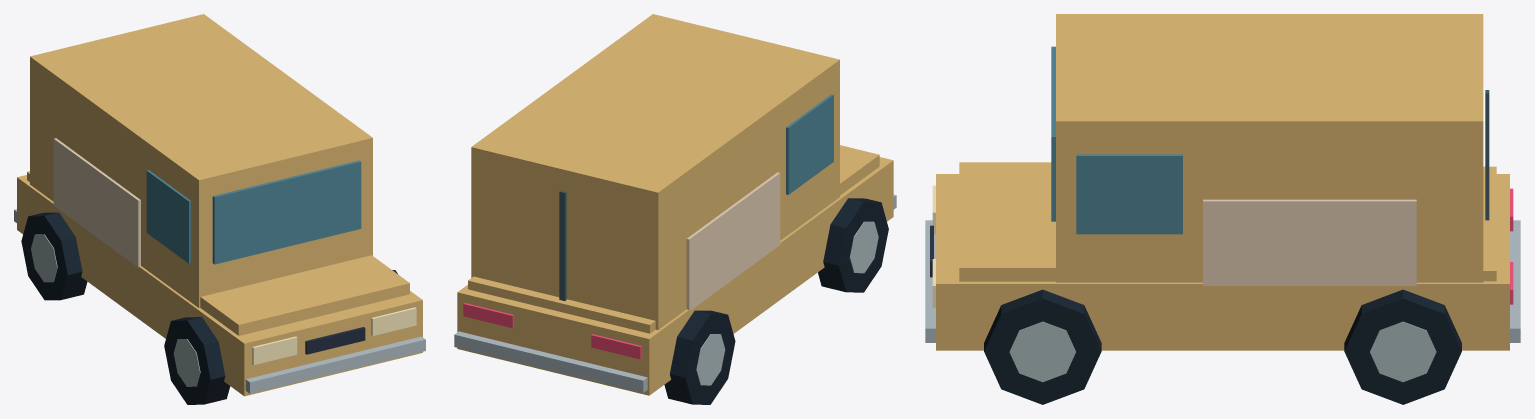
Rendered from vehicle-delivery.obj.
3 renders of one model, left to right at view 1: azimuth 30°, elevation 25°; view 2: azimuth 150°, elevation 25°; view 3: azimuth 270°, elevation 25°, orthographic. The views are drawn at different scales.
Visible parts, largest first — view 1: vehicle-delivery; view 2: vehicle-delivery; view 3: vehicle-delivery.
Boxes of the visible parts, x1,y1,x2,y2 form: vehicle-delivery: (14,14,425,404); vehicle-delivery: (454,14,896,404); vehicle-delivery: (925,14,1520,404).
Bounding box in the file's own units: 2.28 × 2.26 × 4.46.
